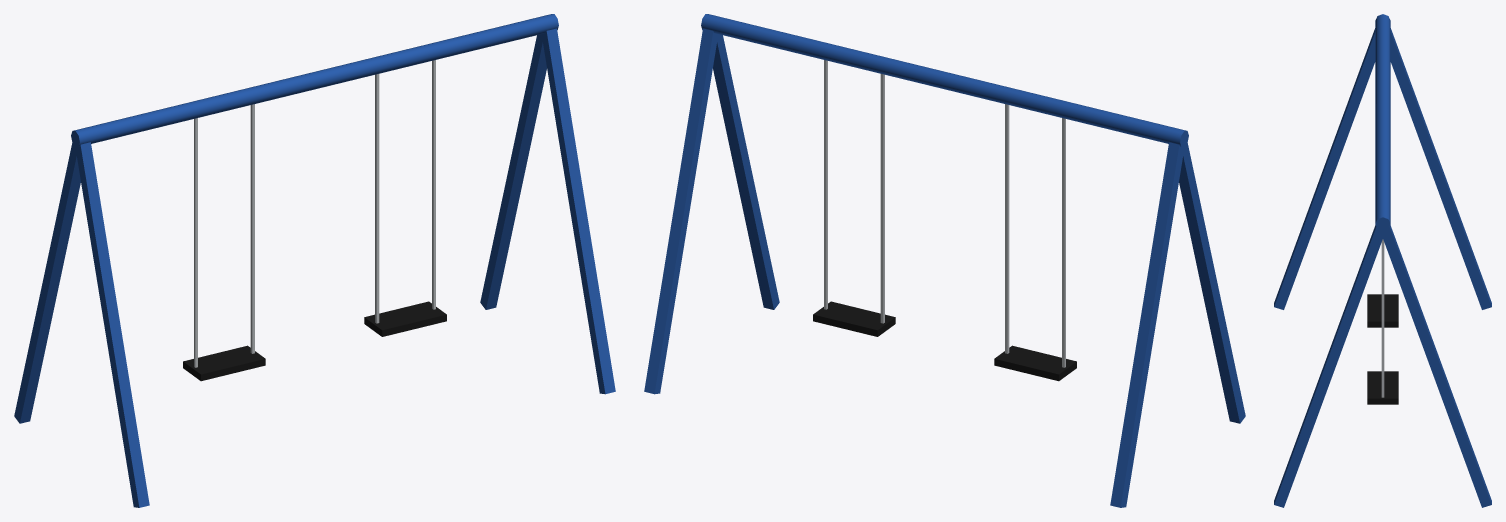
File: sb_swing_set.glb
3 renders of one model, left to right at view 1: azimuth 30°, elevation 25°; view 2: azimuth 150°, elevation 25°; view 3: azimuth 270°, elevation 25°, orthographic. The views are drawn at different scales.
Parts seen in each view (by area): view 1: sb_swing_set; view 2: sb_swing_set; view 3: sb_swing_set.
Part boxes in pixels (<box>): sb_swing_set: <box>14,14,615,507</box>; sb_swing_set: <box>644,14,1245,507</box>; sb_swing_set: <box>1274,14,1491,507</box>.
Size of the model in its own units: 3.7 by 2.47 by 1.67.
